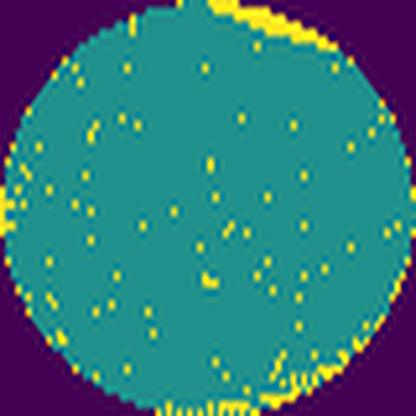Edge-Loc: (148, 306, 390, 416), (205, 0, 345, 58)
